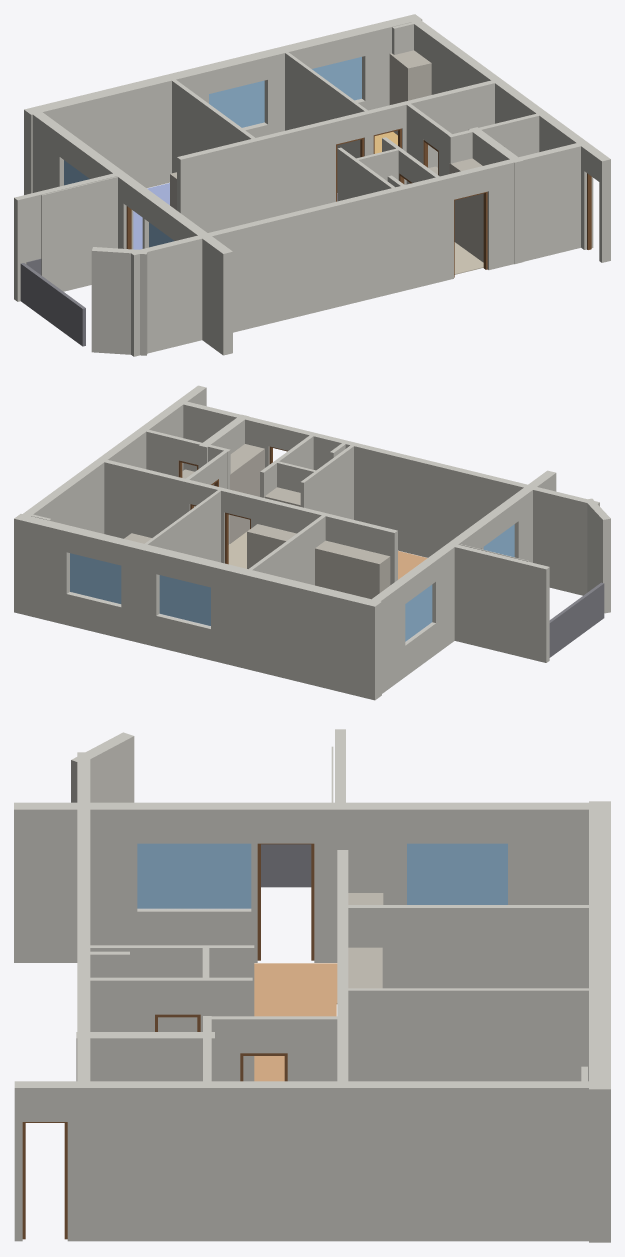
3 renders of one model, top to bottom at view 1: azimuth 30°, elevation 25°; view 2: azimuth 150°, elevation 25°; view 3: azimuth 270°, elevation 25°, orthographic. The views are drawn at different scales.
Visible parts, largest first — view 1: walls, railings, furniture_0_closet, furniture_4_closet, window_0, window_1, floor_0_Bed_Room, floor_2_Entry, door_4; view 2: walls, furniture_1_closet, railings, window_0, window_1, furniture_4_closet, furniture_2_closet, window_3, window_10, floor_2_Entry, furniture_3_closet, floor_1_Living_Room; view 3: walls, window_10, window_3, floor_1_Living_Room, railings, furniture_2_closet, door_2, door_11.
Part boxes in pixels (x1,y1,x2,y2): walls: [14, 14, 610, 356]; railings: [20, 258, 85, 346]; furniture_0_closet: [389, 50, 431, 135]; furniture_4_closet: [449, 158, 483, 262]; window_0: [209, 80, 264, 127]; window_1: [312, 57, 361, 100]; floor_0_Bed_Room: [133, 183, 169, 249]; floor_2_Entry: [454, 242, 483, 274]; door_4: [454, 191, 487, 277]; walls: [14, 385, 610, 700]; furniture_1_closet: [315, 540, 390, 599]; railings: [549, 582, 604, 657]; window_0: [159, 575, 210, 625]; window_1: [70, 553, 121, 603]; furniture_4_closet: [230, 444, 264, 543]; furniture_2_closet: [247, 524, 296, 568]; window_3: [405, 584, 432, 641]; window_10: [483, 524, 514, 557]; floor_2_Entry: [228, 529, 249, 568]; furniture_3_closet: [264, 487, 300, 506]; floor_1_Living_Room: [398, 551, 427, 579]; walls: [14, 729, 610, 1242]; window_10: [137, 843, 251, 908]; window_3: [407, 843, 507, 904]; floor_1_Living_Room: [254, 963, 337, 1081]; railings: [261, 844, 311, 887]; furniture_2_closet: [348, 947, 382, 988]; door_2: [257, 843, 314, 960]; door_11: [22, 1122, 67, 1239].
Size of the model in its own units: 13.6 by 2.72 by 9.54.
